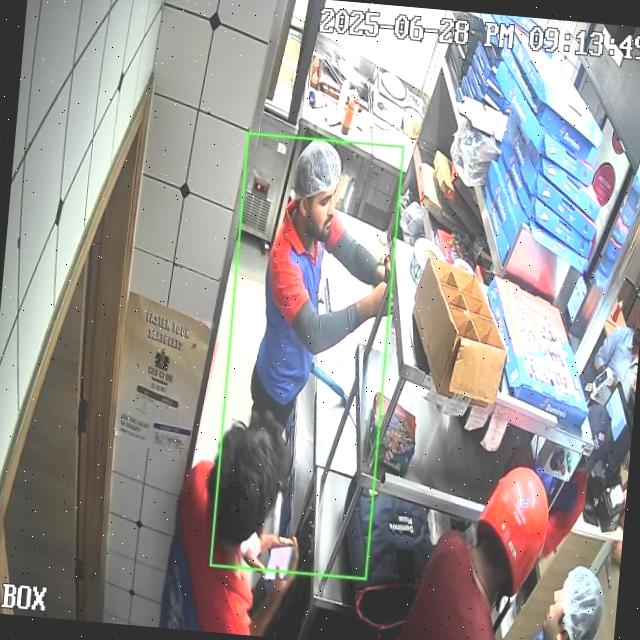helmet: (477, 466, 547, 596)
